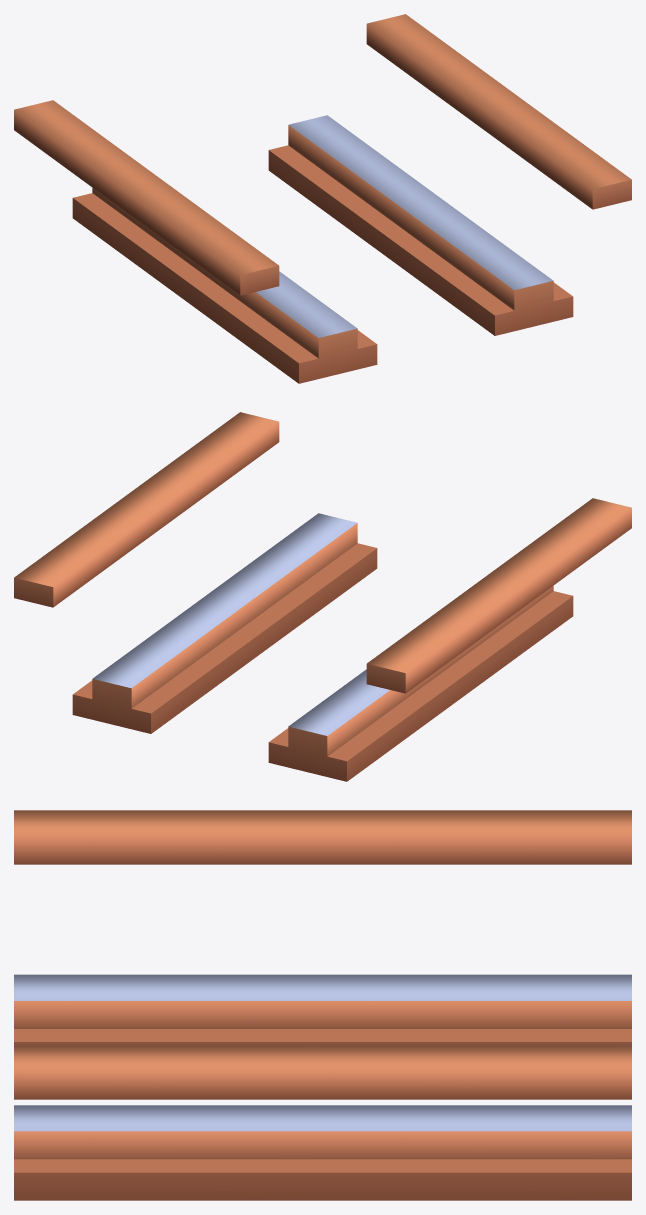
Rendered from coaster-wood-track.glb.
3 views of the same model, one above another, from view 1: azimuth 30°, elevation 25°; view 2: azimuth 150°, elevation 25°; view 3: azimuth 270°, elevation 25° (orthographic). The views are drawn at different scales.
Visible parts, largest first — view 1: coaster-wood-track; view 2: coaster-wood-track; view 3: coaster-wood-track.
Part boxes in pixels (x1,y1,x2,y2): coaster-wood-track: (14,14,631,383); coaster-wood-track: (14,412,631,781); coaster-wood-track: (14,810,631,1200).
Size of the model in its own units: 1 by 0.3 by 1.
Materials: 1 (1 with a texture image).
